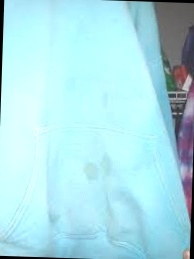mustard: (97, 152, 113, 176), (83, 164, 98, 179), (65, 75, 77, 92), (101, 93, 109, 108)
